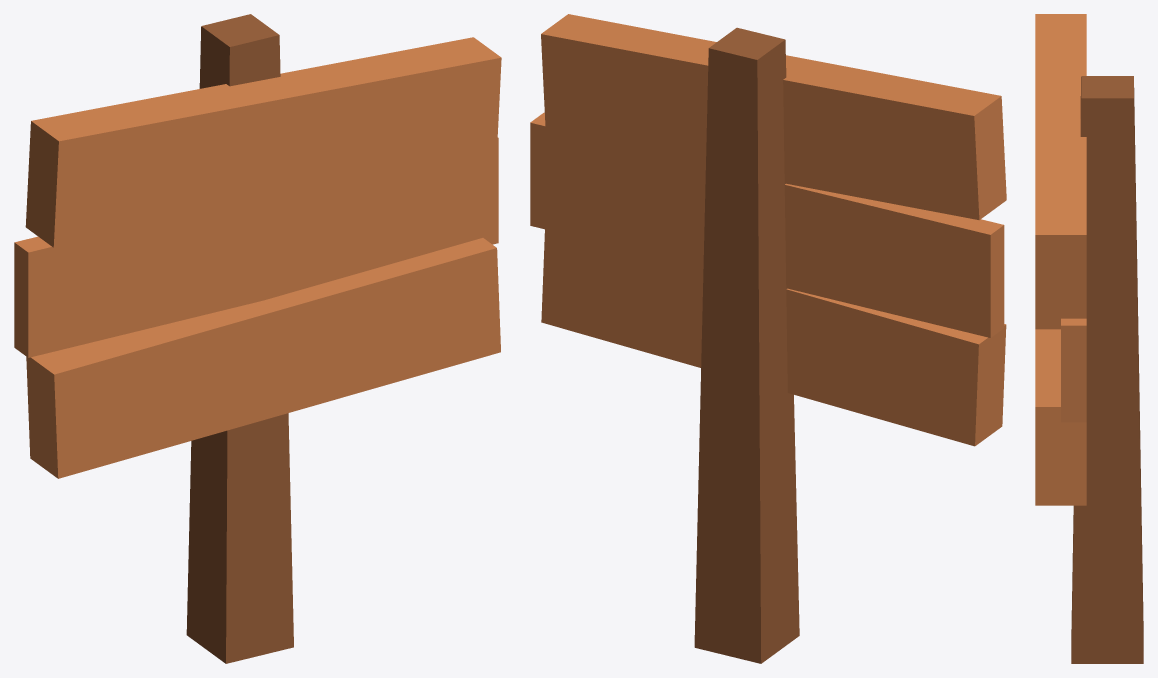
Rendered from sign.fbx.
The picture shows the model from 3 angles, left to right: view 1: azimuth 30°, elevation 25°; view 2: azimuth 150°, elevation 25°; view 3: azimuth 270°, elevation 25°; orthographic projection. The views are drawn at different scales.
Parts seen in each view (by area): view 1: sign; view 2: sign; view 3: sign.
Boxes of the visible parts, left/top/right/bottom form: sign: left=14, top=14, right=501, bottom=663; sign: left=530, top=14, right=1006, bottom=663; sign: left=1035, top=14, right=1143, bottom=663.
Bounding box in the file's own units: 4.83 × 6 × 1.05.
